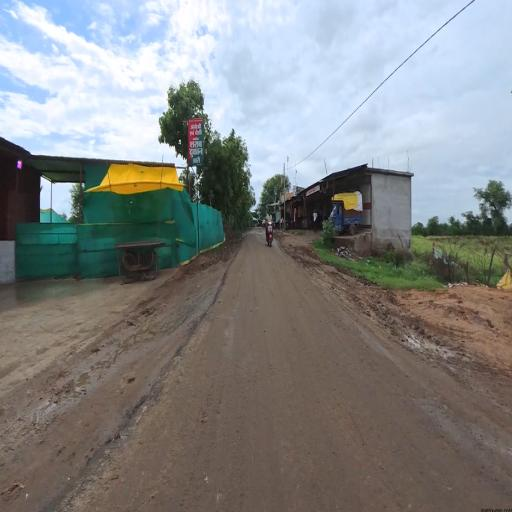edge_damage: (97, 333, 178, 469)
